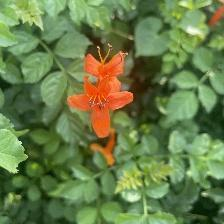honeysuckle: (72, 74, 136, 140)
